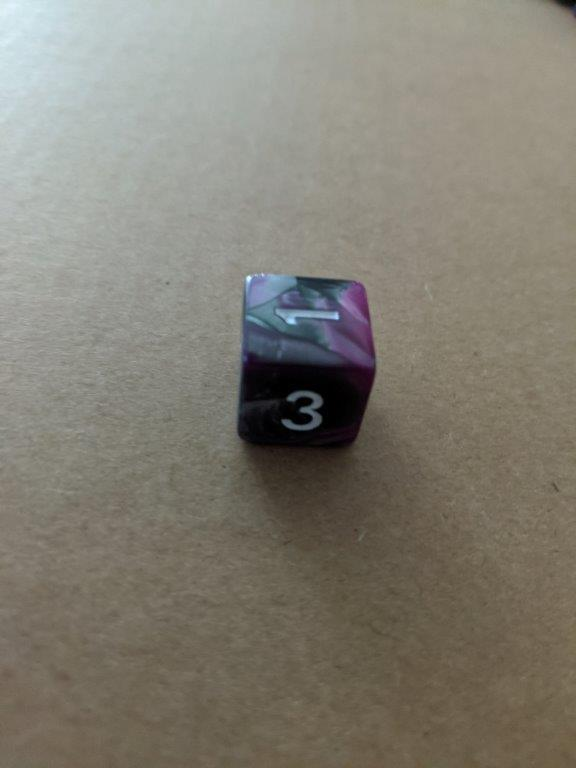d6-1: (233, 271, 377, 455)
